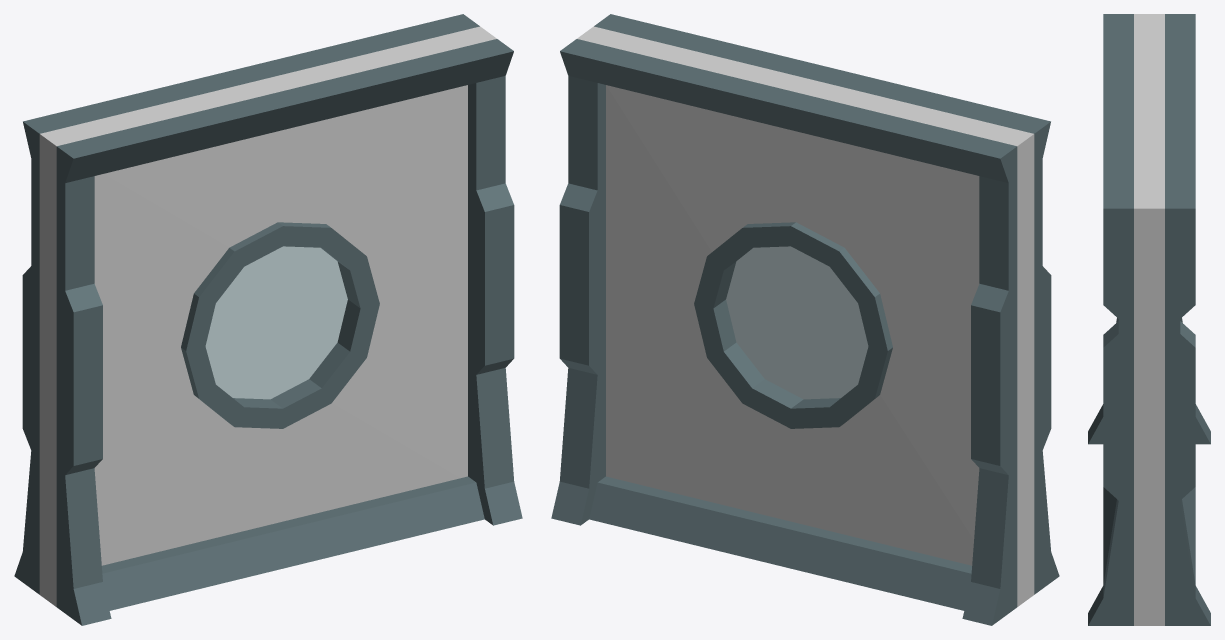
Rendered from scifi_wall_2sided_window_round.fbx.
3 renders of one model, left to right at view 1: azimuth 30°, elevation 25°; view 2: azimuth 150°, elevation 25°; view 3: azimuth 270°, elevation 25°, orthographic. The views are drawn at different scales.
Visible parts, largest first — view 1: Circle.007; view 2: Circle.007; view 3: Circle.007.
Boxes of the visible parts, x1,y1,x2,y2 form: Circle.007: (14, 14, 522, 625); Circle.007: (551, 14, 1059, 625); Circle.007: (1088, 14, 1210, 625).
Size of the model in its own units: 3 by 3 by 0.8.
